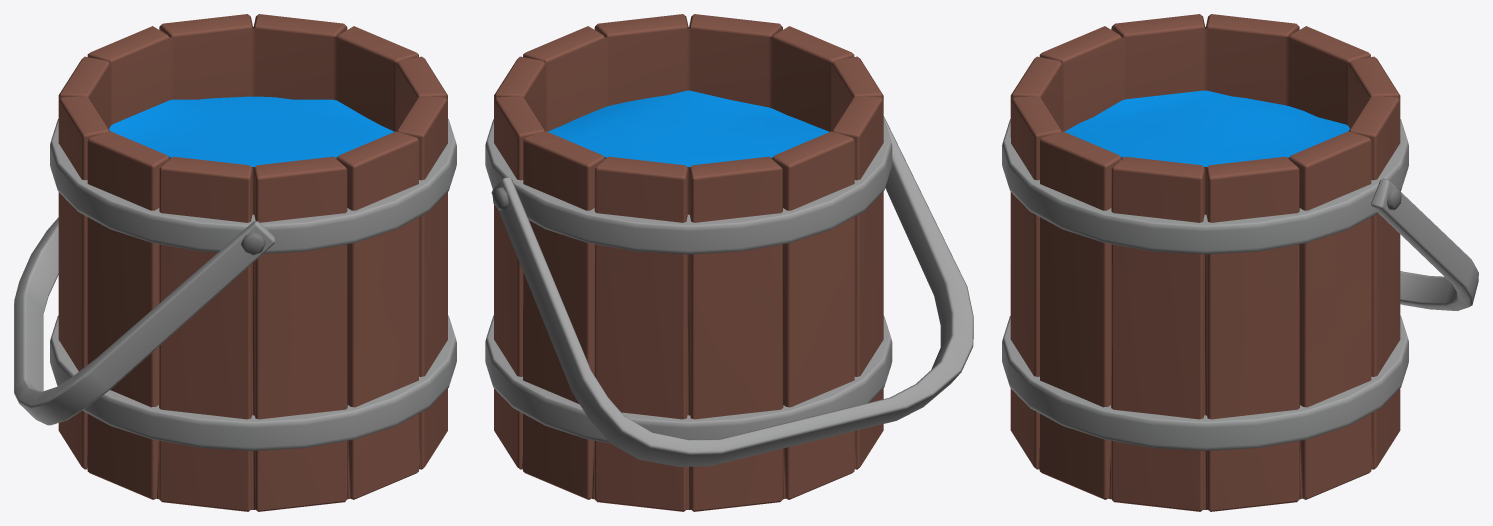
Rendered from Farm_8_Balde_with_water_1.glb.
The picture shows the model from 3 angles, left to right: view 1: azimuth 30°, elevation 25°; view 2: azimuth 150°, elevation 25°; view 3: azimuth 270°, elevation 25°; orthographic projection.
Parts seen in each view (by area): view 1: Farm_8_Balde_with_water_1; view 2: Farm_8_Balde_with_water_1; view 3: Farm_8_Balde_with_water_1.
Boxes of the visible parts, bbox=[...] form: Farm_8_Balde_with_water_1: bbox=[14, 14, 456, 511]; Farm_8_Balde_with_water_1: bbox=[485, 14, 973, 511]; Farm_8_Balde_with_water_1: bbox=[1002, 14, 1478, 511].
Size of the model in its own units: 0.4838 by 0.3667 by 0.4716.
Materials: 1 (1 with a texture image).
